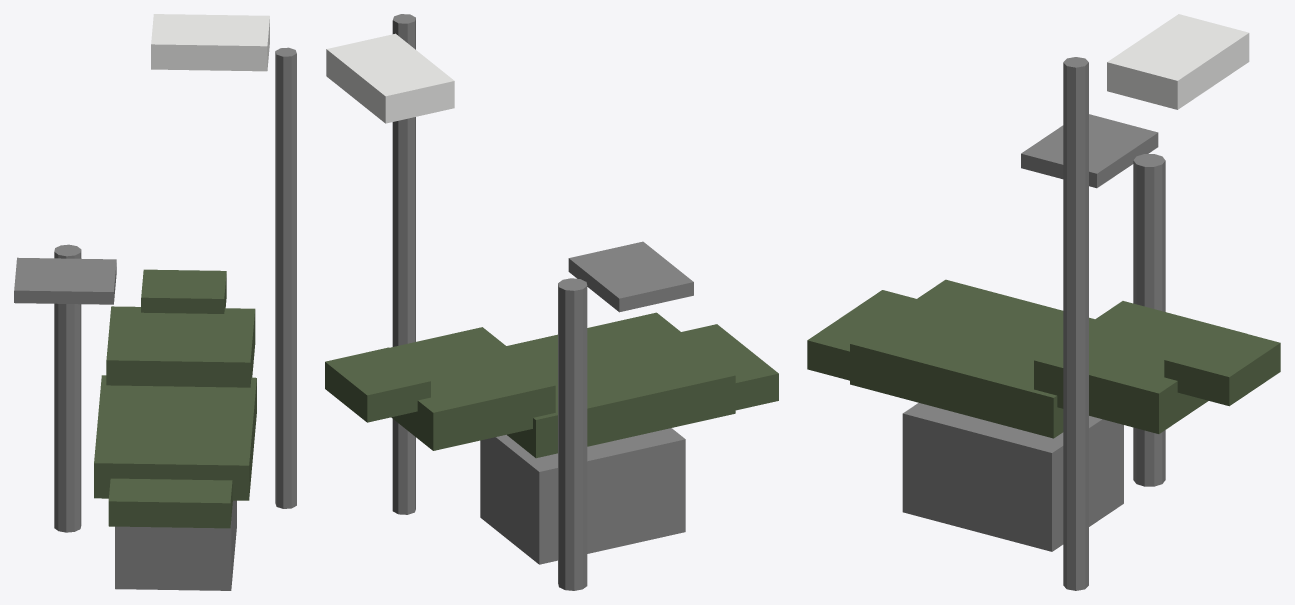
3 views of the same model, side by side, from view 1: azimuth 30°, elevation 25°; view 2: azimuth 150°, elevation 25°; view 3: azimuth 270°, elevation 25° (orthographic). The views are drawn at different scales.
Parts seen in each view (by area): view 1: sillon_ortho_1; view 2: sillon_ortho_1; view 3: sillon_ortho_1.
Part boxes in pixels (<box>): sillon_ortho_1: <box>14,14,296,590</box>; sillon_ortho_1: <box>325,14,778,590</box>; sillon_ortho_1: <box>807,14,1280,590</box>.
Bounding box in the file's own units: 1.24 × 1.48 × 1.8.
